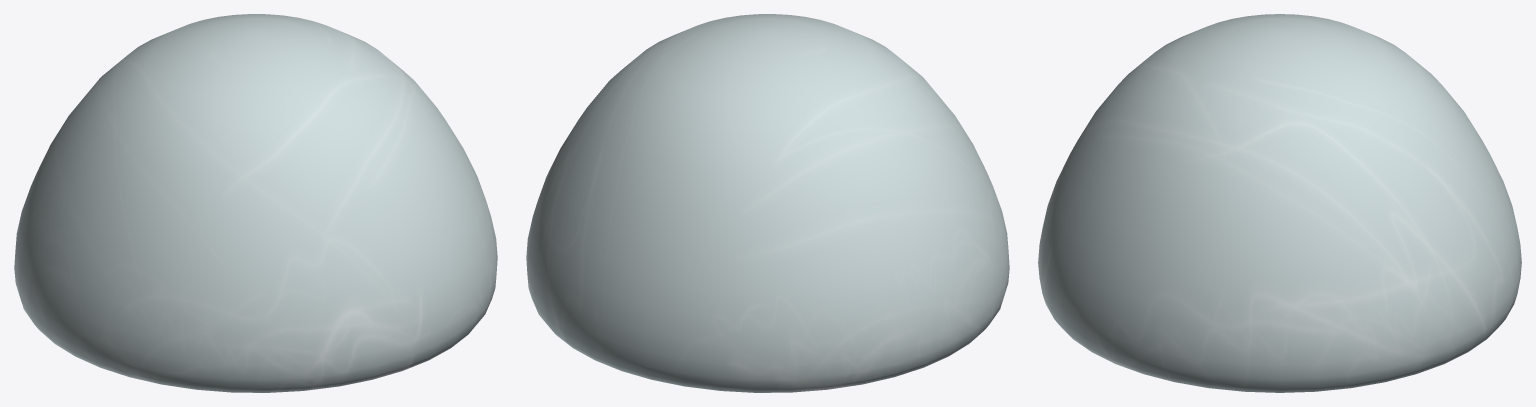
File: surrounding.fbx
3 renders of one model, left to right at view 1: azimuth 30°, elevation 25°; view 2: azimuth 150°, elevation 25°; view 3: azimuth 270°, elevation 25°, orthographic.
Parts seen in each view (by area): view 1: BG_2, BG_1; view 2: BG_2, BG_1; view 3: BG_1, BG_2.
Boxes of the visible parts, left/top/right/bottom form: BG_2: left=14, top=20, right=376, bottom=392; BG_1: left=204, top=14, right=497, bottom=379; BG_2: left=647, top=20, right=1009, bottom=392; BG_1: left=526, top=14, right=819, bottom=379; BG_1: left=1038, top=34, right=1521, bottom=392; BG_2: left=1040, top=14, right=1519, bottom=239.
Size of the model in its own units: 2847 by 1720 by 2847.
